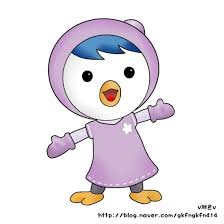Petty: (43, 17, 179, 207)
